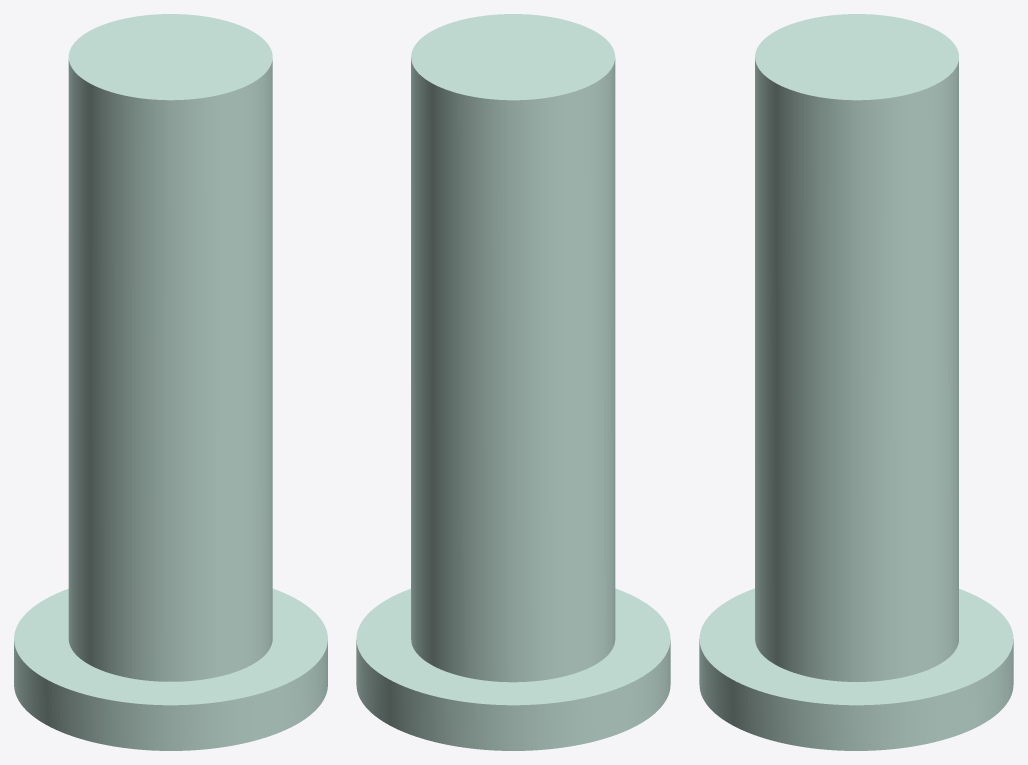
The picture shows the model from 3 angles, left to right: view 1: azimuth 30°, elevation 25°; view 2: azimuth 150°, elevation 25°; view 3: azimuth 270°, elevation 25°; orthographic projection.
Visible parts, largest first — view 1: Renderer Node; view 2: Renderer Node; view 3: Renderer Node.
Boxes of the visible parts, x1,y1,x2,y2 form: Renderer Node: [14, 14, 327, 750]; Renderer Node: [356, 14, 670, 750]; Renderer Node: [699, 14, 1013, 750].
Bounding box in the file's own units: 0.34 × 0.75 × 0.3401.
